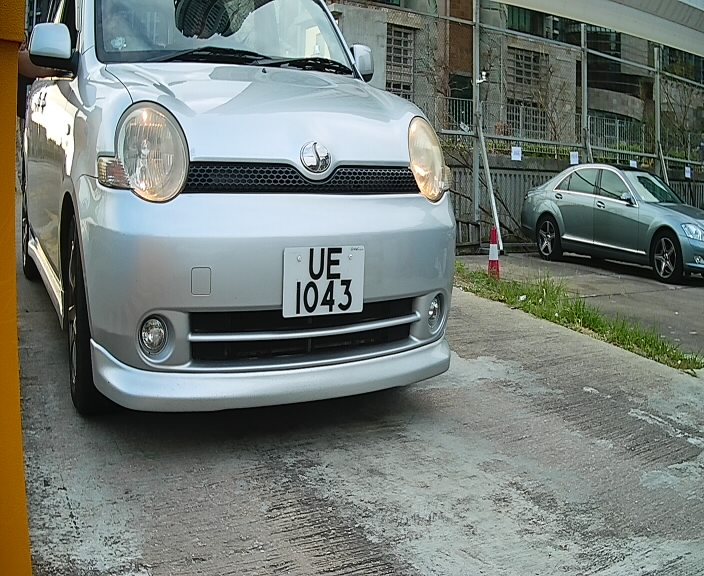License Plate: (277, 238, 374, 329)
